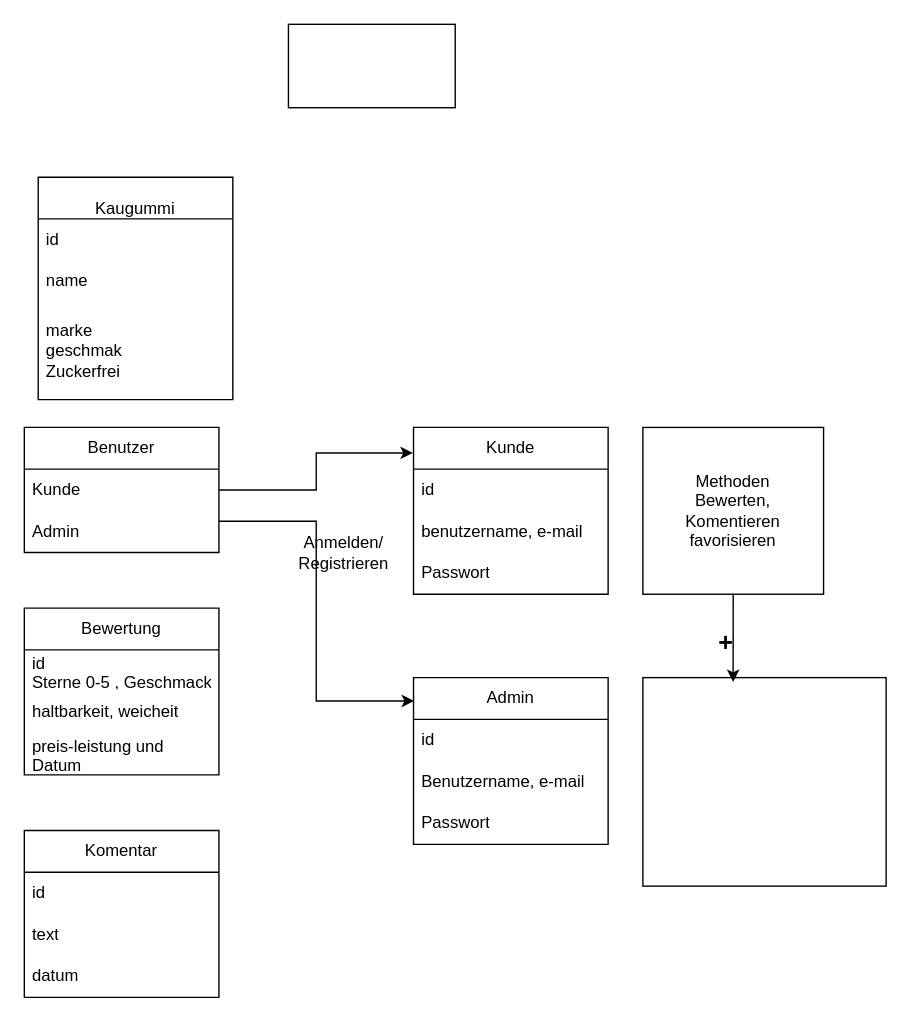
This 910x1022 diagram has some shape labels left out. Here are the shapes that lost their labels. From the top down, the centre of each, then its label:
At point (371, 65): "WOC".
At point (763, 781): "Kaugummi hinzufügen bearbeiten löschen Kommentare löschen Nutzer sperren".
